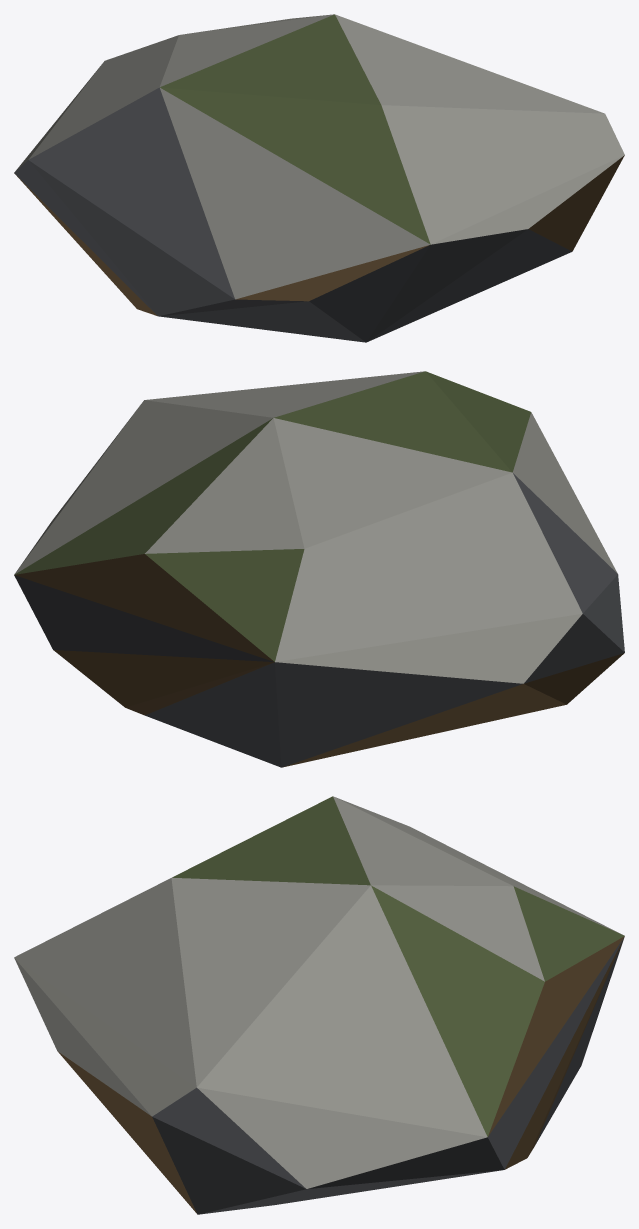
File: rock_large.glb
3 renders of one model, top to bottom at view 1: azimuth 30°, elevation 25°; view 2: azimuth 150°, elevation 25°; view 3: azimuth 270°, elevation 25°, orthographic. The views are drawn at different scales.
Parts seen in each view (by area): view 1: rock_large; view 2: rock_large; view 3: rock_large.
Part boxes in pixels (bbox=[...]): rock_large: bbox=[14, 14, 624, 342]; rock_large: bbox=[14, 371, 624, 767]; rock_large: bbox=[14, 796, 624, 1214].
Bounding box in the file's own units: 1.17 × 0.4849 × 1.1.
